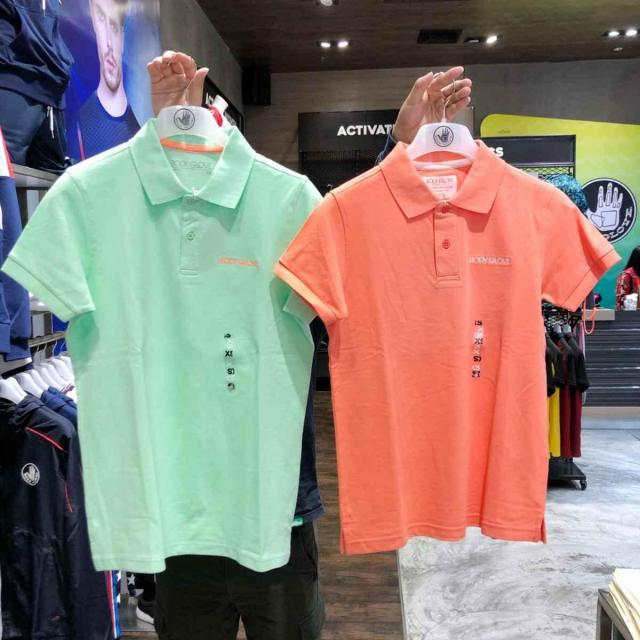Tshirt: (1, 121, 328, 578), (289, 155, 616, 558)
